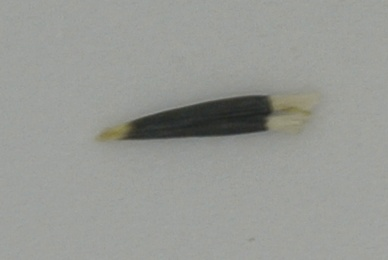เมล็ดดีติดกัน: (92, 89, 320, 145)
